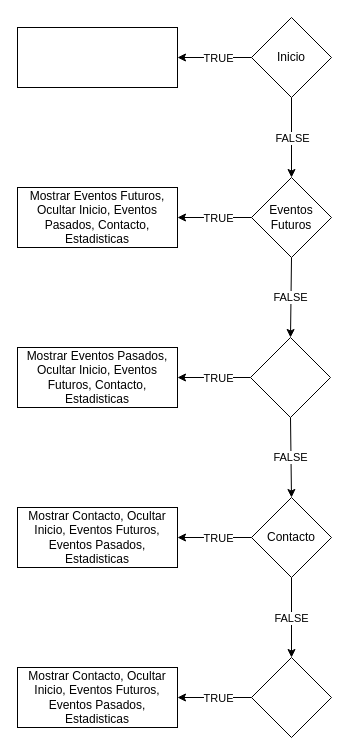
This 349x755 diagram has some shape labels left out. Here are the shapes that lost their labels. From the top down, the centre of each, then its label:
At [97,57]: "Mostrar Inicio, Ocultar Eventos Futuros, Eventos Pasados, Contacto, Estadisticas".
At [290,377]: "Eventos Pasados".
At [291,697]: "Estadisticas".
